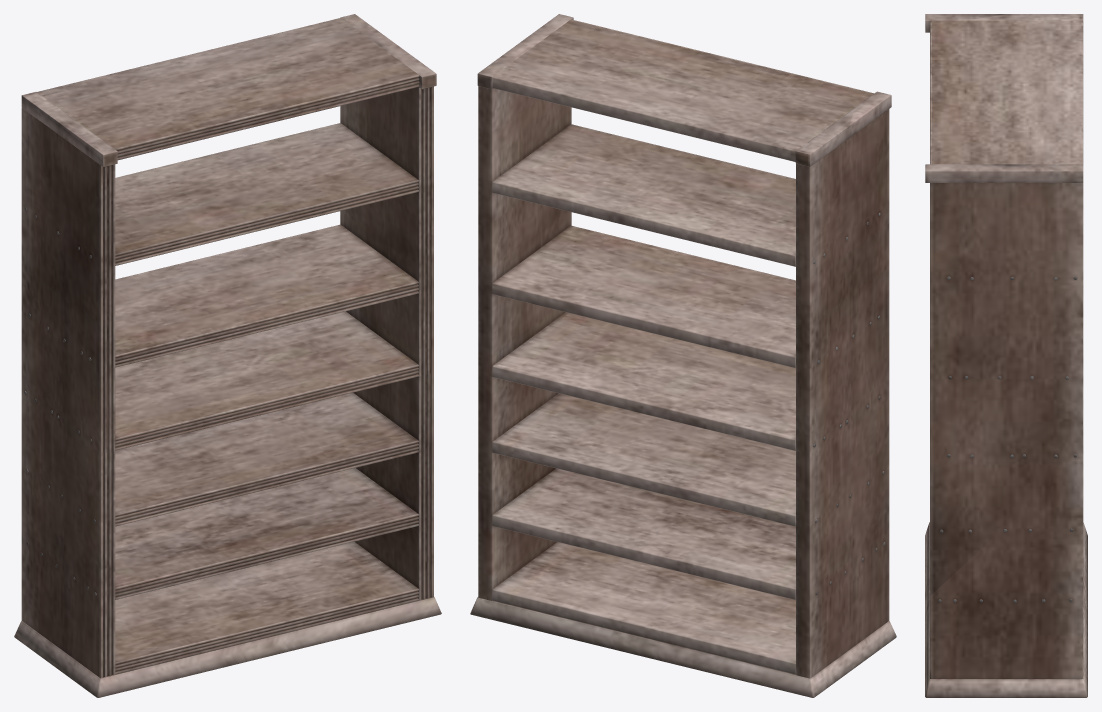
The model's file is wooden_bookshelf_worn.glb.
The picture shows the model from 3 angles, left to right: view 1: azimuth 30°, elevation 25°; view 2: azimuth 150°, elevation 25°; view 3: azimuth 270°, elevation 25°; orthographic projection. The views are drawn at different scales.
Parts seen in each view (by area): view 1: wooden_bookshelf_worn; view 2: wooden_bookshelf_worn; view 3: wooden_bookshelf_worn.
Part boxes in pixels (x1=…): wooden_bookshelf_worn: x1=14, y1=14, x2=441, y2=697; wooden_bookshelf_worn: x1=470, y1=14, x2=896, y2=697; wooden_bookshelf_worn: x1=925, y1=14, x2=1087, y2=697.
Bounding box in the file's own units: 1.37 × 2.06 × 0.5813.
Materials: 1 (1 with a texture image).
